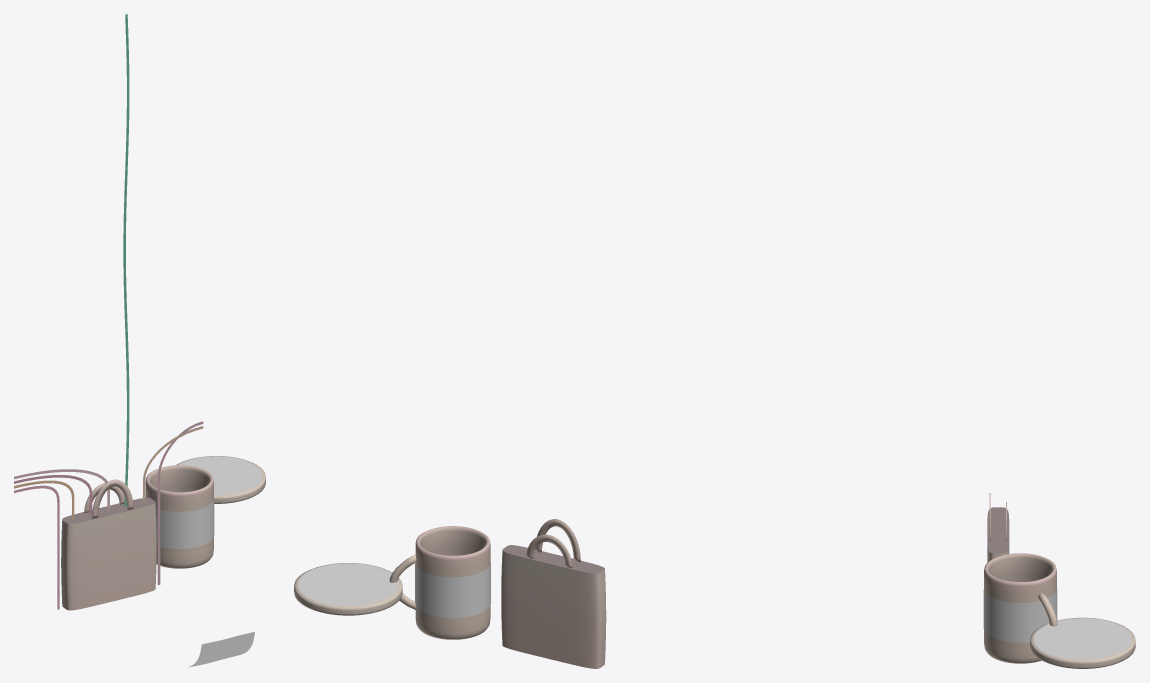
File: weave.glb
3 renders of one model, left to right at view 1: azimuth 30°, elevation 25°; view 2: azimuth 150°, elevation 25°; view 3: azimuth 270°, elevation 25°, orthographic. The views are drawn at different scales.
Visible parts, largest first — view 1: ToteBody, Threads, MugBody, MugBand, CoasterTop, Panel, CoasterBody, Handle_F; view 2: ToteBody, MugBody, CoasterTop, MugBand, CoasterBody; view 3: MugBody, CoasterTop, MugBand, CoasterBody, ToteBody.
Boxes of the visible parts, <box> form: ToteBody: <box>61,497,156,610</box>; Threads: <box>14,14,203,609</box>; MugBody: <box>145,465,213,568</box>; MugBand: <box>156,499,214,548</box>; CoasterTop: <box>178,456,262,495</box>; Panel: <box>187,631,254,667</box>; CoasterBody: <box>176,456,265,503</box>; Handle_F: <box>92,479,133,518</box>; ToteBody: <box>501,545,606,668</box>; MugBody: <box>389,526,490,639</box>; CoasterTop: <box>298,563,398,606</box>; MugBand: <box>415,563,490,618</box>; CoasterBody: <box>294,563,402,615</box>; MugBody: <box>984,553,1057,663</box>; CoasterTop: <box>1033,618,1131,659</box>; MugBand: <box>983,589,1057,642</box>; CoasterBody: <box>1030,617,1135,668</box>; ToteBody: <box>987,507,1009,562</box>.
Size of the model in its own units: 1.93 by 3.9 by 2.16.
